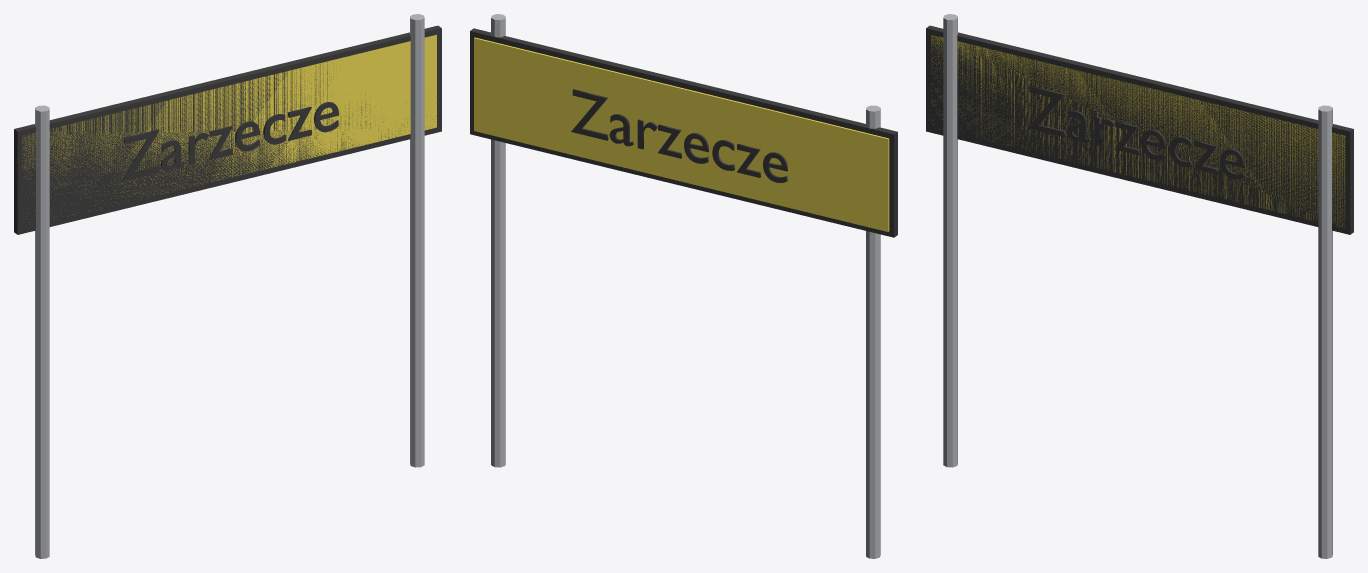
Rendered from Tablica_Zarzecze.fbx.
3 renders of one model, left to right at view 1: azimuth 30°, elevation 25°; view 2: azimuth 150°, elevation 25°; view 3: azimuth 330°, elevation 25°, orthographic.
Visible parts, largest first — view 1: Tablica_Zarzecze; view 2: Tablica_Zarzecze; view 3: Tablica_Zarzecze.
Part boxes in pixels (x1,y1,x2,y2): Tablica_Zarzecze: (14,14,441,558); Tablica_Zarzecze: (470,14,897,558); Tablica_Zarzecze: (926,14,1353,558).
Bounding box in the file's own units: 2.58 × 2.6 × 0.108.
